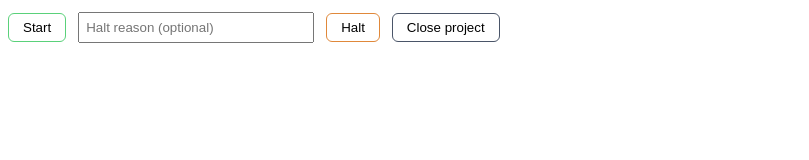
Test: ProjectControls › starts the project and reports the outcome
Click the button "Start". click: (37, 28)
box: 8,13 -> 66,42
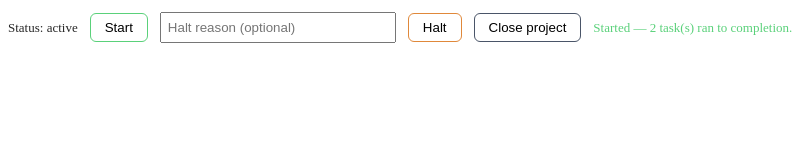
Now the message shows "2 task(s) ran to completion", box 593,20 -> 792,34
